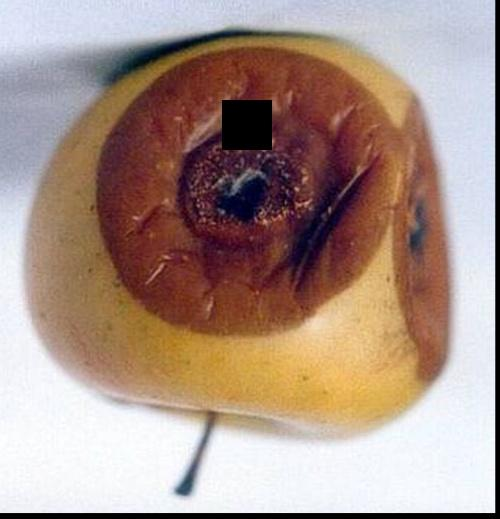rotten apple: (15, 25, 472, 437)
